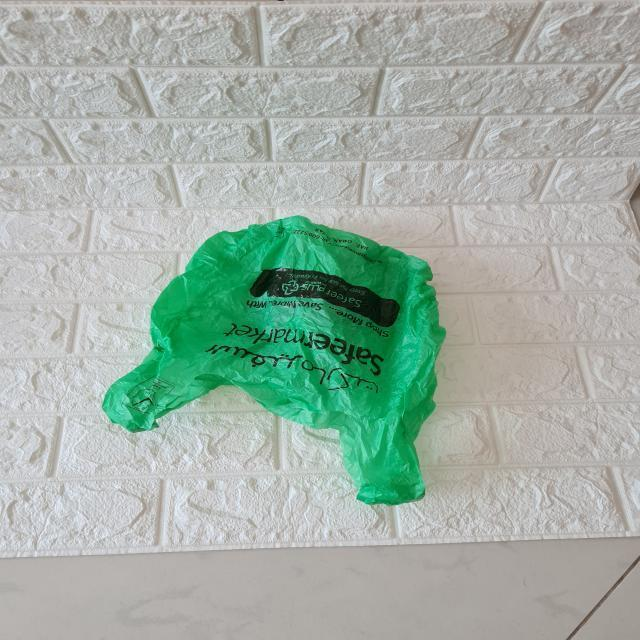Plastic_Bag: (100, 211, 448, 506)
